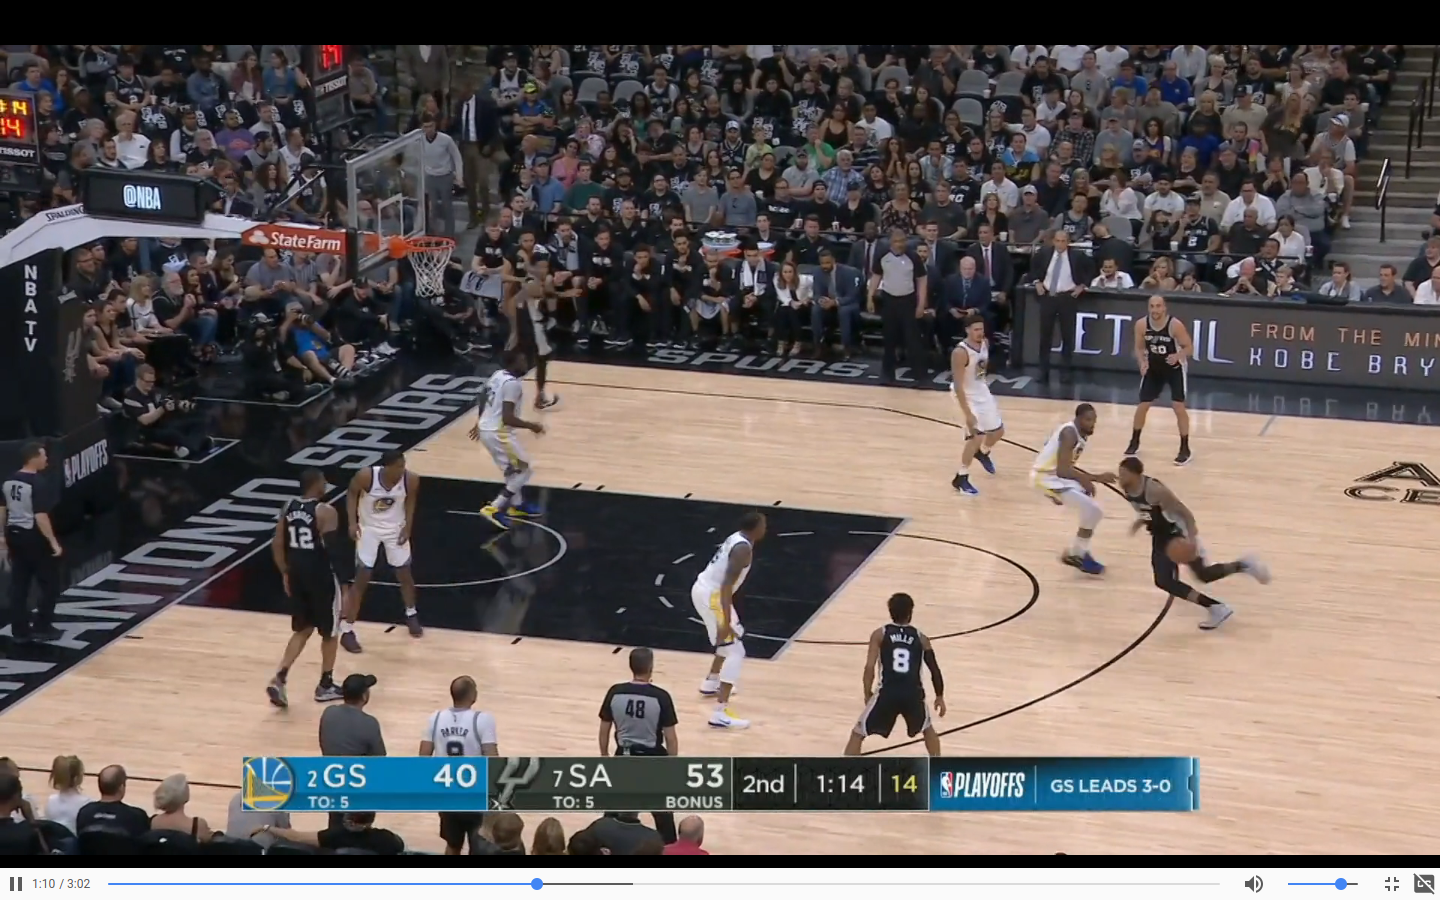basketball: (1164, 528, 1202, 566)
basketball player: (1113, 459, 1276, 639), (264, 466, 352, 709), (836, 594, 958, 765), (335, 449, 424, 659), (690, 503, 770, 732), (1028, 406, 1121, 583), (1127, 291, 1199, 460), (941, 317, 1007, 503), (475, 348, 538, 529), (501, 256, 564, 408)
referee: (596, 648, 684, 831), (2, 436, 72, 645)
